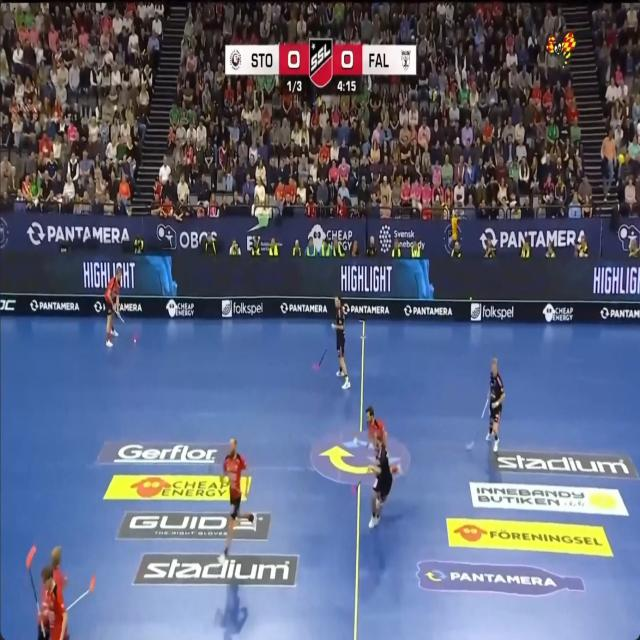Balls: (133, 337, 136, 343)
player: (219, 439, 255, 562), (368, 439, 392, 528), (41, 566, 68, 639), (485, 358, 505, 451), (331, 295, 350, 389), (104, 267, 122, 347), (366, 406, 387, 444)
stick: (26, 545, 43, 636), (67, 575, 95, 610), (466, 428, 479, 450), (481, 395, 489, 419), (318, 348, 327, 366), (116, 311, 124, 323)
